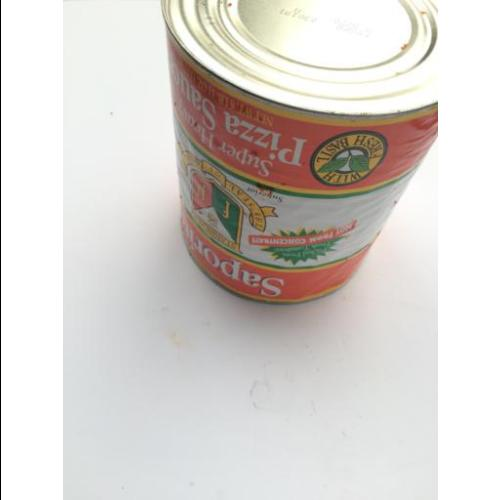metal: (162, 0, 438, 306)
